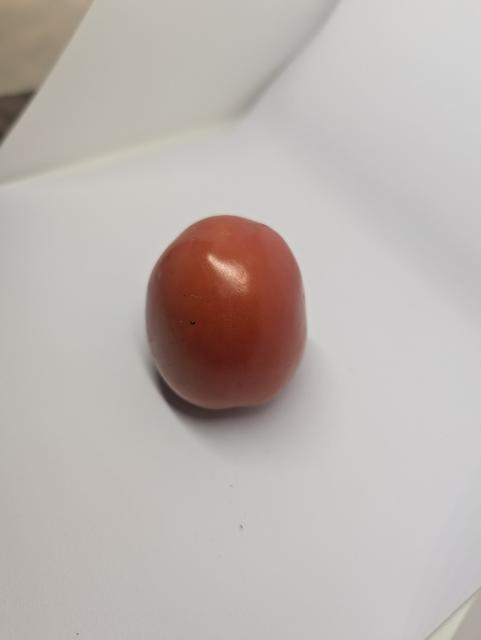red: (105, 195, 337, 444)
